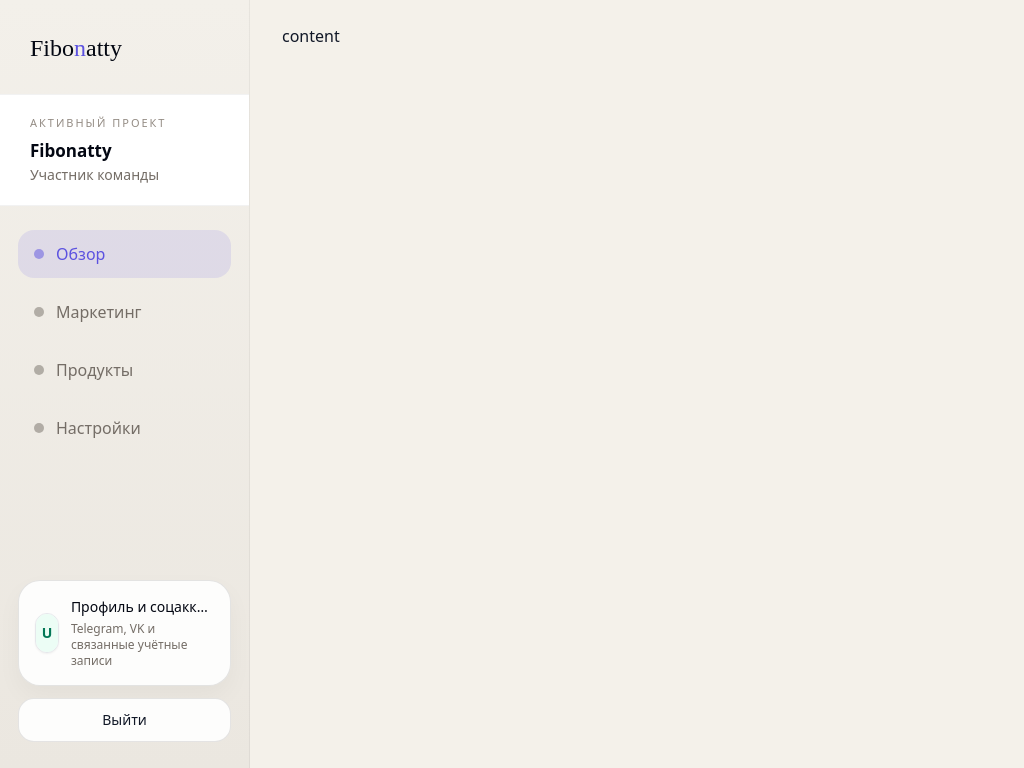
Test: AppShell › renders readable profile data in the user dialog instead of raw json
Click the button "Профиль и соцаккаунты". click: [124, 633]
box: [18, 580, 231, 686]
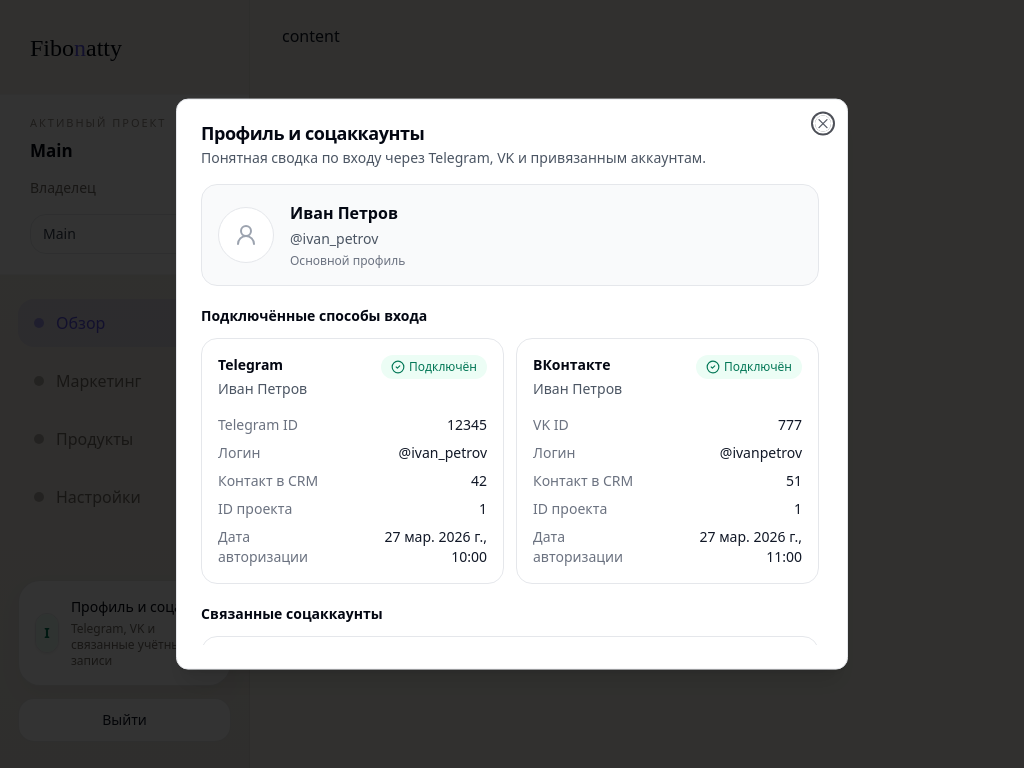
expect the text "Подключённые способы входа" is shown: met, box [201, 306, 427, 325]
expect the text "Связанные соцаккаунты" is shown: met, box [201, 604, 383, 623]
expect the text "Telegram ID" is shown: met, box [218, 415, 298, 435]
